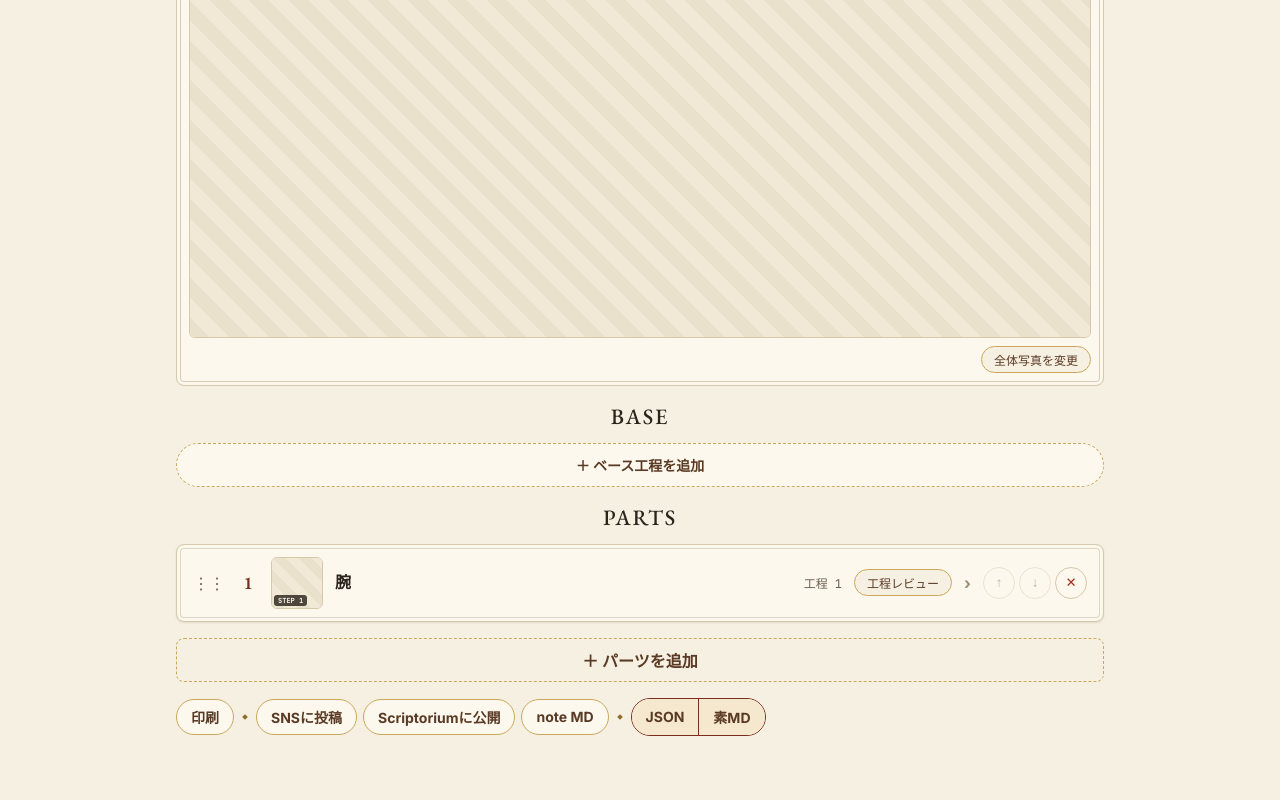
Test: RecipeOverviewPage — パーツ削除（T50） › 削除対象パーツの写真が全体写真としても参照されている場合はdeletePhotoされない
The image size is (1280, 800).
(page scrolled)
Step 1. Click the button named "腕を削除" → (1071, 582), box [1055,566,1087,598]
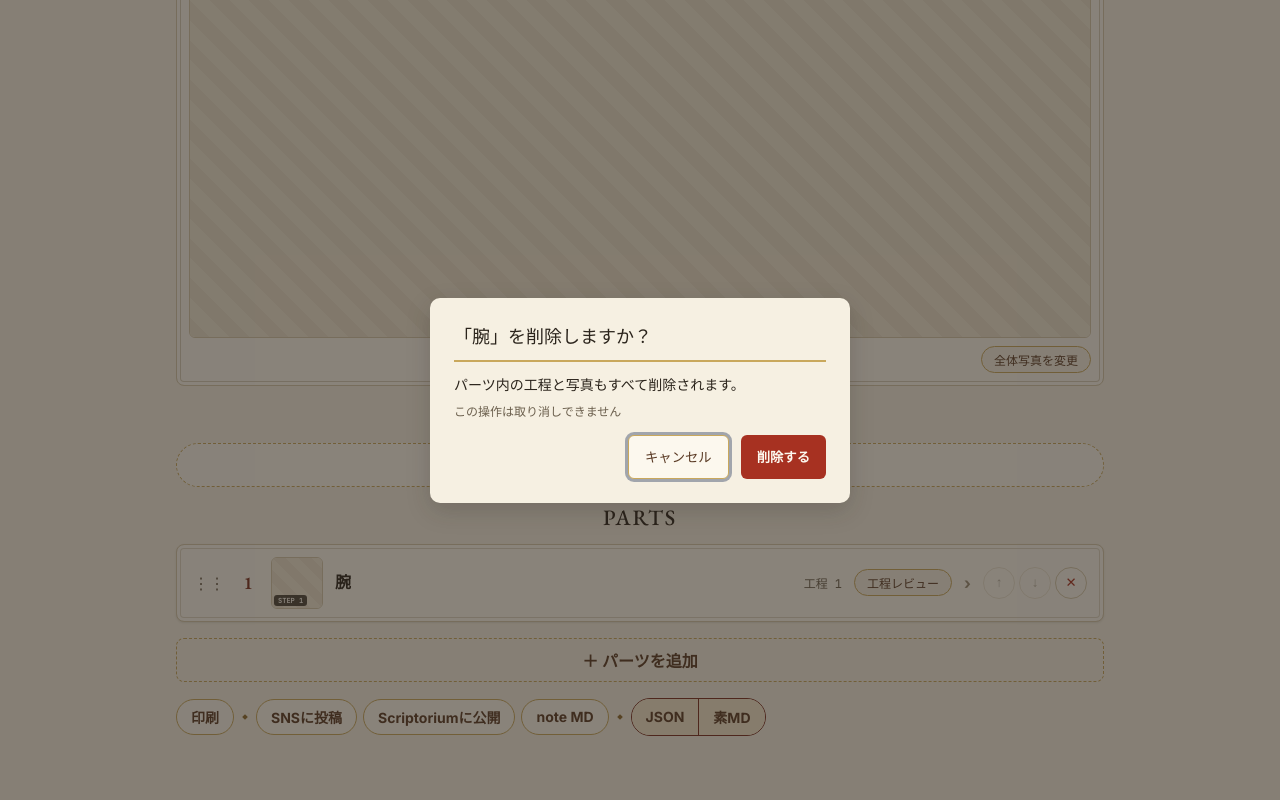
Step 2. Click the button "削除する" → (783, 456), box [741,434,826,478]
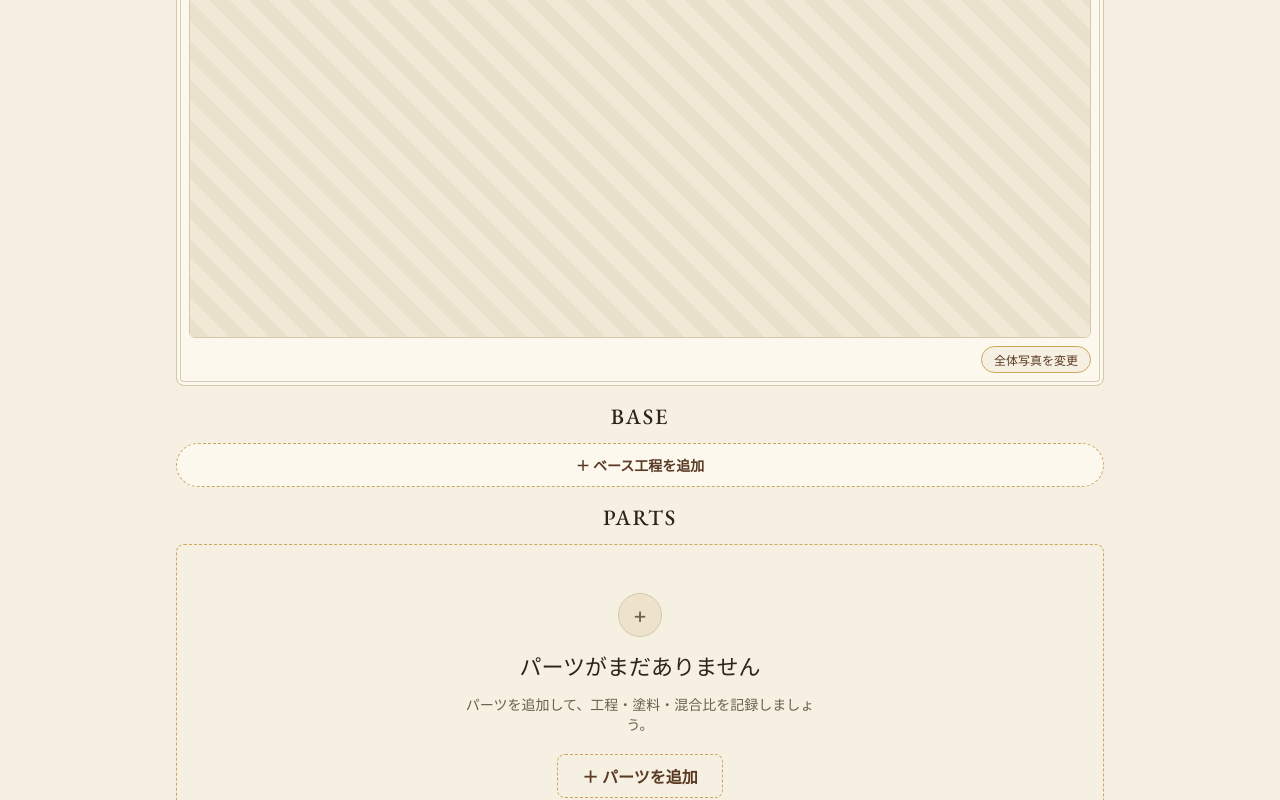
Now no buttons with test id "part-card" are shown
